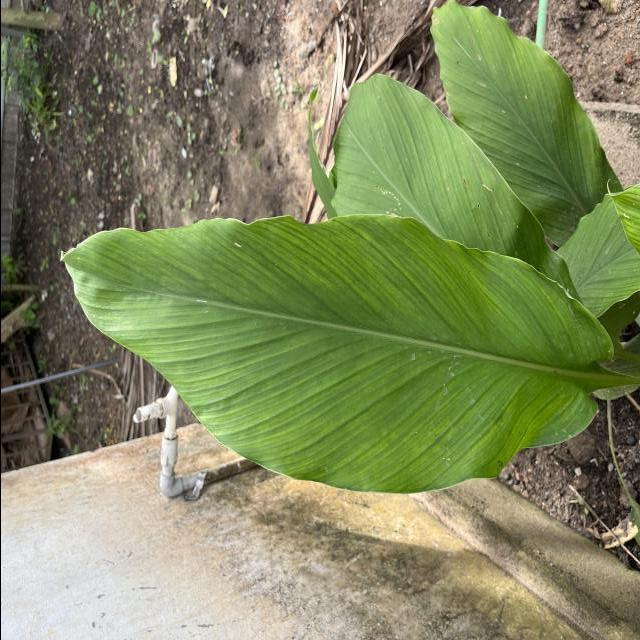Curcuma longa: (55, 208, 618, 498)
